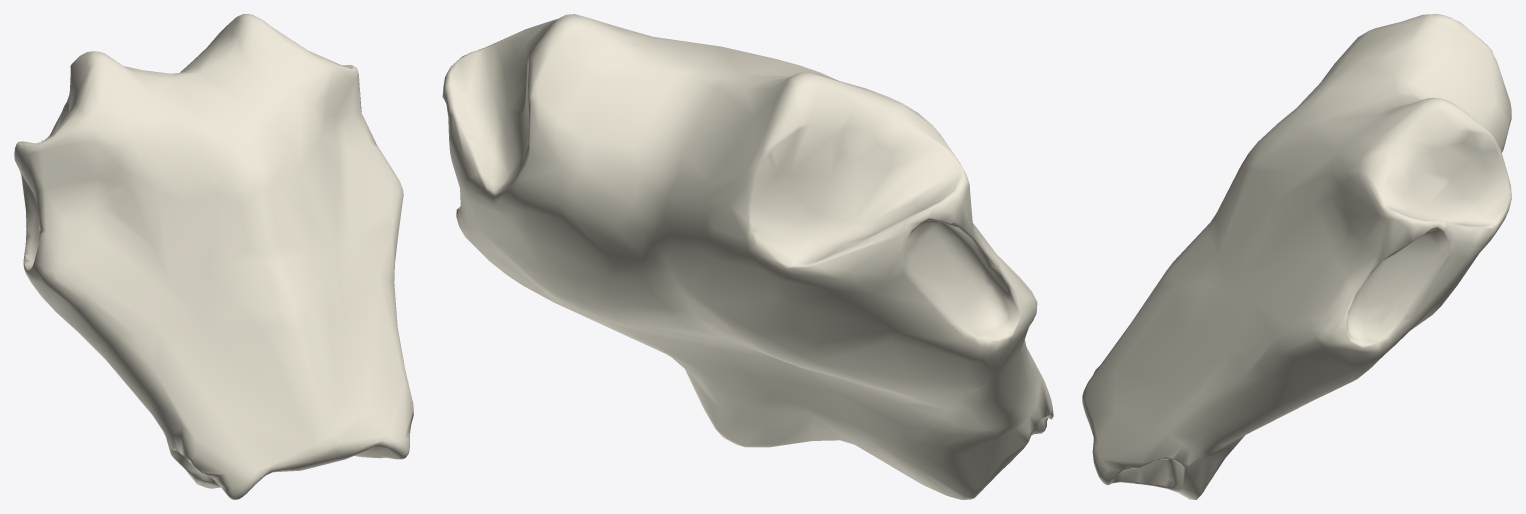
3 renders of one model, left to right at view 1: azimuth 30°, elevation 25°; view 2: azimuth 150°, elevation 25°; view 3: azimuth 270°, elevation 25°, orthographic. The views are drawn at different scales.
Visible parts, largest first — view 1: ZA_3db84755bd91a2bb; view 2: ZA_3db84755bd91a2bb; view 3: ZA_3db84755bd91a2bb.
Boxes of the visible parts, x1,y1,x2,y2 form: ZA_3db84755bd91a2bb: (14, 14, 413, 499); ZA_3db84755bd91a2bb: (442, 14, 1053, 499); ZA_3db84755bd91a2bb: (1082, 14, 1511, 499).
Size of the model in its own units: 0.0571 by 0.054 by 0.0522.
